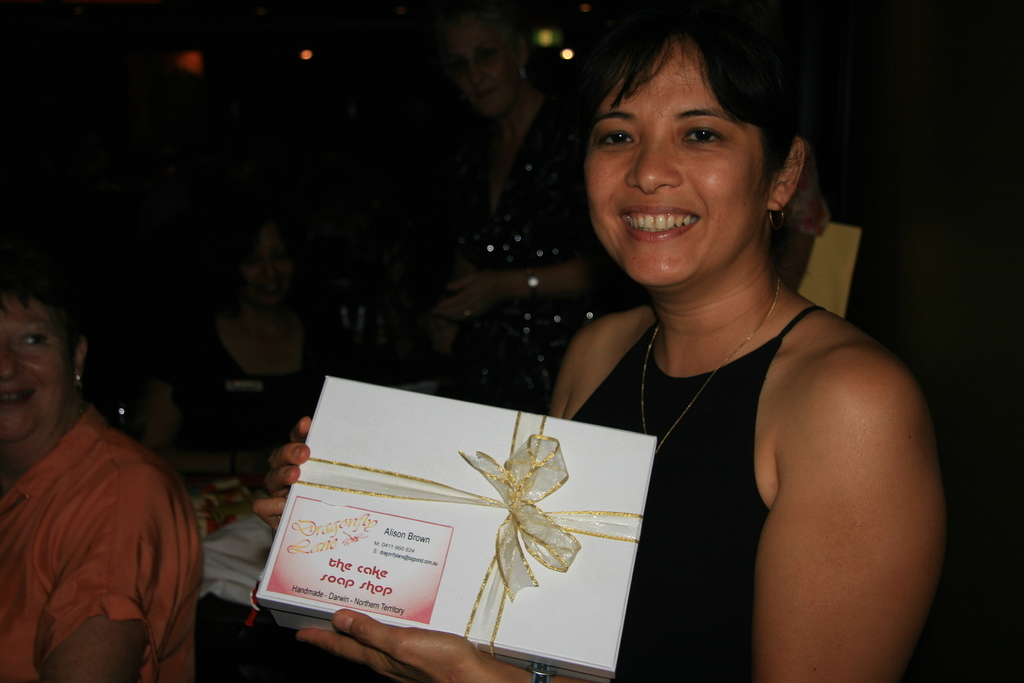Human-face: (581, 29, 769, 292), (0, 288, 76, 436), (438, 25, 520, 118), (234, 223, 307, 311)
